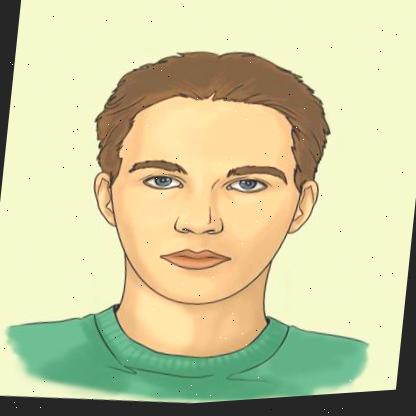person: (0, 13, 401, 416)
